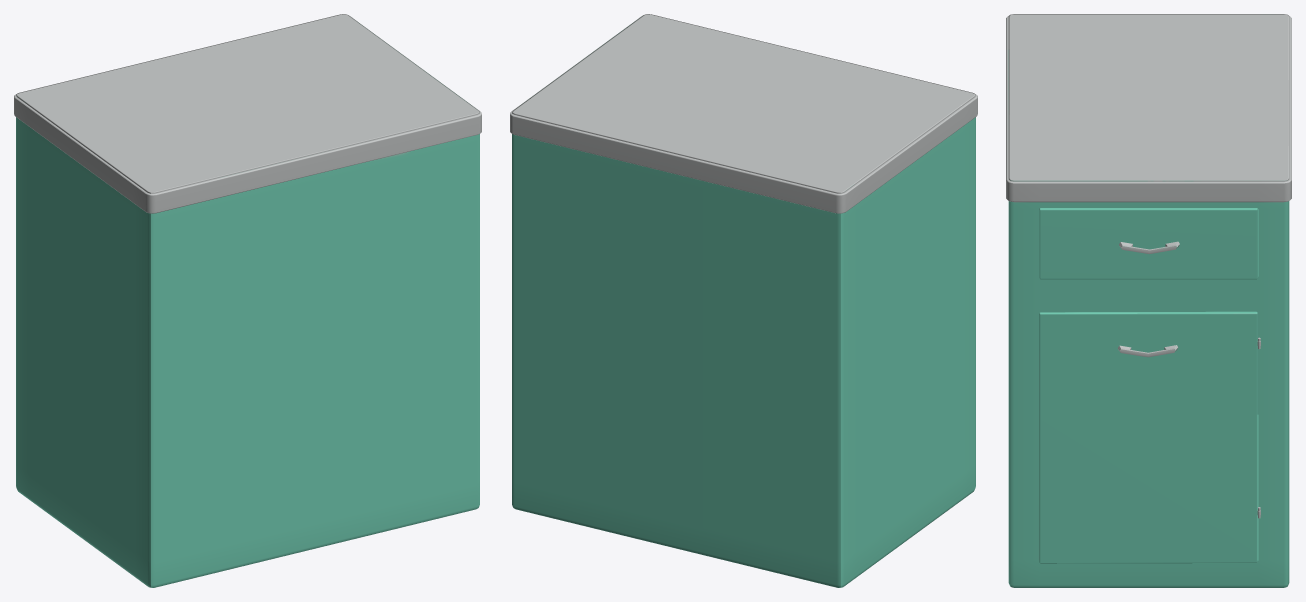
File: Cabinet_GEO.fbx
3 views of the same model, side by side, from view 1: azimuth 30°, elevation 25°; view 2: azimuth 150°, elevation 25°; view 3: azimuth 270°, elevation 25° (orthographic). The views are drawn at different scales.
Parts seen in each view (by area): view 1: Cabinet_Body_GEO, Cabinet_Metal_Rim_GEO; view 2: Cabinet_Body_GEO, Cabinet_Metal_Rim_GEO; view 3: Cabinet_Body_GEO, BottomDrawer_GEO, TopDrawer_GEO, Cabinet_Metal_Rim_GEO.
Boxes of the visible parts, x1=… form: Cabinet_Body_GEO: x1=16, y1=14, x2=479, y2=587; Cabinet_Metal_Rim_GEO: x1=14, y1=15, x2=481, y2=213; Cabinet_Body_GEO: x1=512, y1=14, x2=975, y2=587; Cabinet_Metal_Rim_GEO: x1=510, y1=15, x2=977, y2=213; Cabinet_Body_GEO: x1=1008, y1=14, x2=1289, y2=587; BottomDrawer_GEO: x1=1039, y1=311, x2=1260, y2=563; TopDrawer_GEO: x1=1039, y1=208, x2=1257, y2=279; Cabinet_Metal_Rim_GEO: x1=1006, y1=16, x2=1291, y2=202.
Bounding box in the file's own units: 11.63 × 12.84 × 8.13.
Materials: 1 (1 with a texture image).
